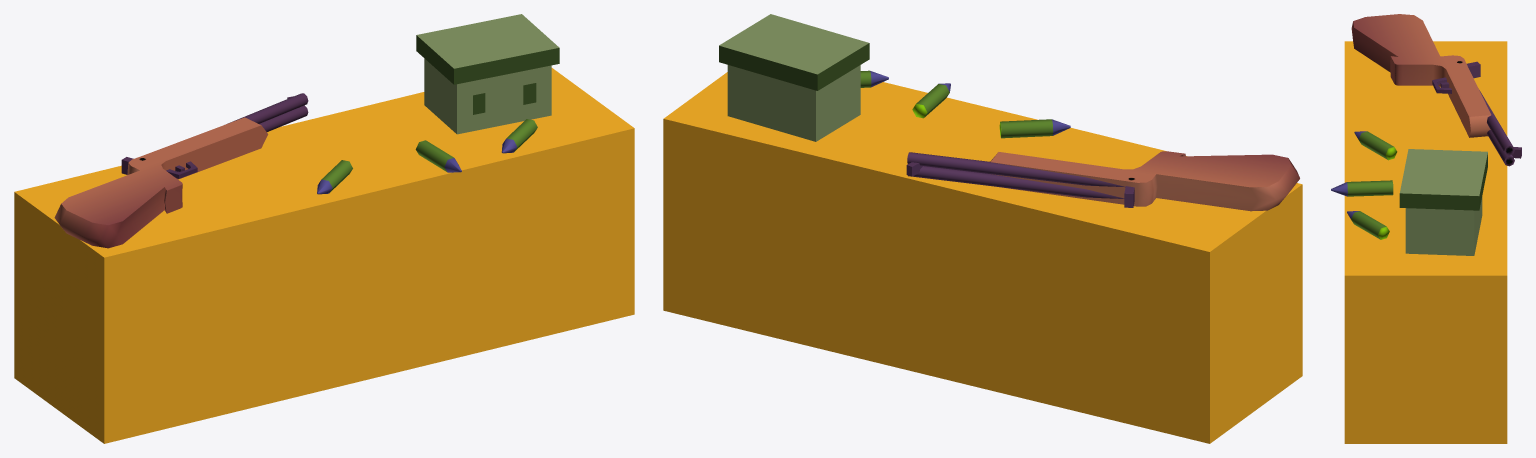
The model's file is Table_Up_1.fbx.
3 renders of one model, left to right at view 1: azimuth 30°, elevation 25°; view 2: azimuth 150°, elevation 25°; view 3: azimuth 270°, elevation 25°, orthographic. The views are drawn at different scales.
Visible parts, largest first — view 1: Table1; view 2: Table1; view 3: Table1.
Part boxes in pixels (x1,y1,x2,y2): Table1: (14,14,634,443); Table1: (663,14,1302,443); Table1: (1331,14,1521,443).
Bounding box in the file's own units: 3.5 × 1.57 × 1.17.
2 materials, 2 textured.
